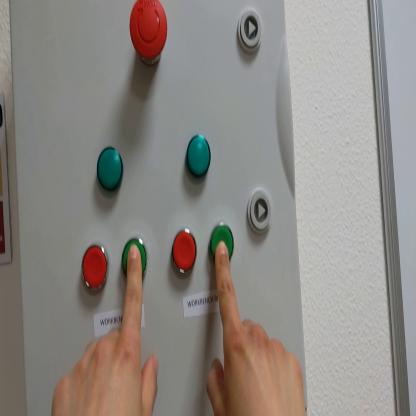hand: (53, 244, 157, 415), (208, 242, 307, 414)
left green button: (122, 238, 150, 285)
left red button: (83, 248, 108, 292)
right green button: (212, 226, 235, 262)
right red button: (174, 231, 197, 273)
